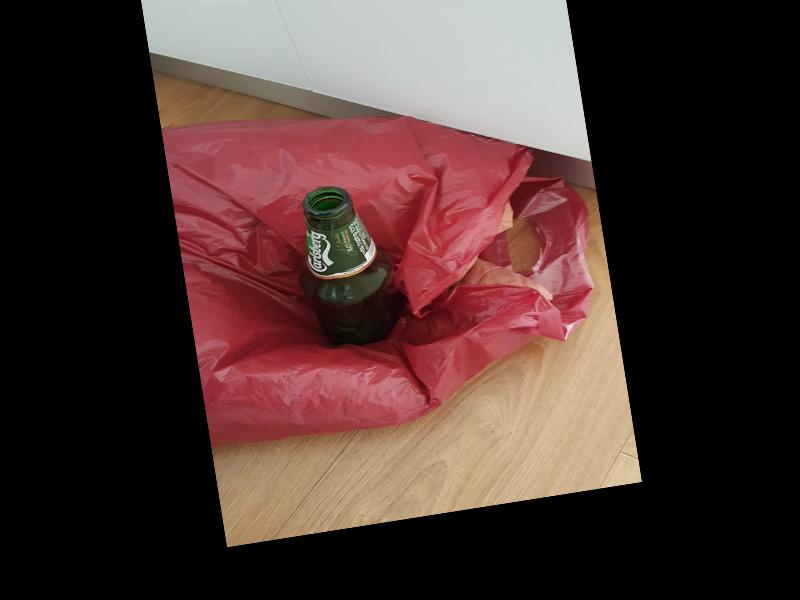Beer: (286, 180, 404, 353)
